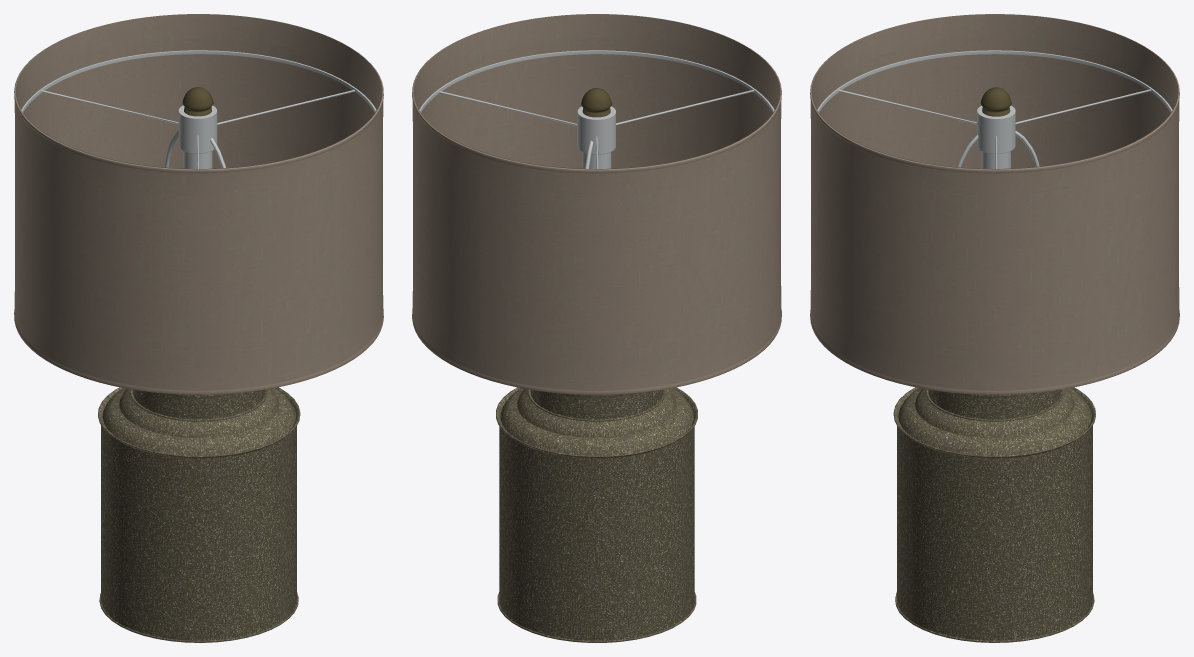
Rendered from abo-B075X2LLTY.glb.
The picture shows the model from 3 angles, left to right: view 1: azimuth 30°, elevation 25°; view 2: azimuth 150°, elevation 25°; view 3: azimuth 270°, elevation 25°; orthographic projection.
Bounding box in the file's own units: 0.318 × 0.486 × 0.318.
Materials: 1 (1 with a texture image).
